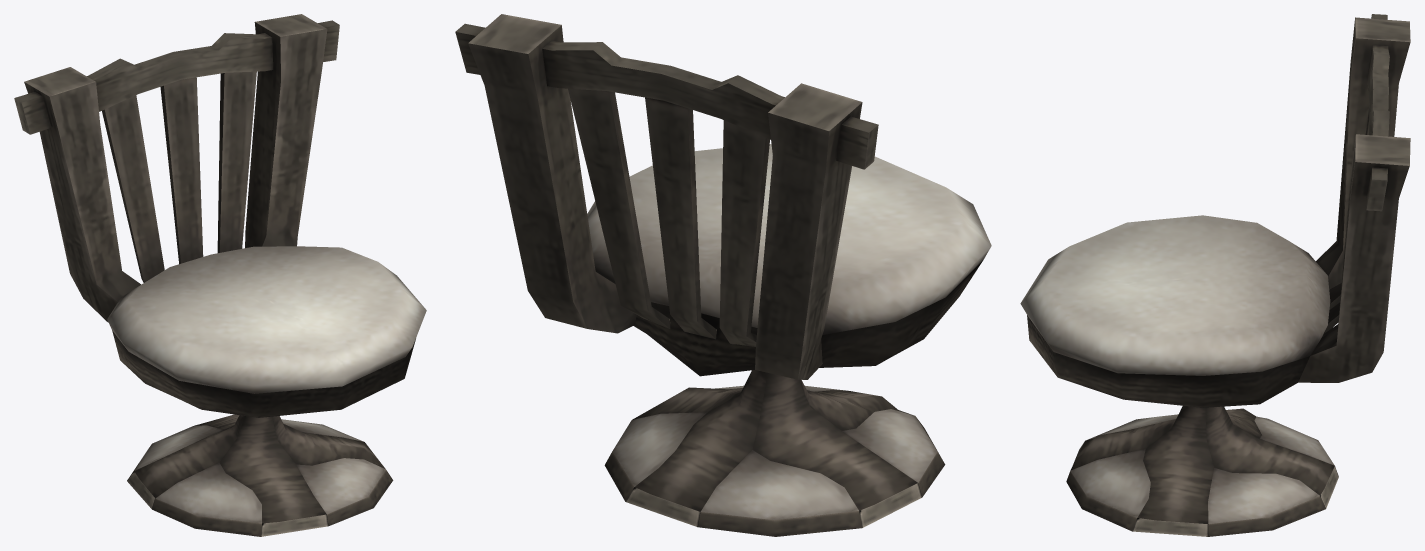
File: ColonialChair_HD.fbx
3 views of the same model, side by side, from view 1: azimuth 30°, elevation 25°; view 2: azimuth 150°, elevation 25°; view 3: azimuth 270°, elevation 25° (orthographic). The views are drawn at different scales.
Parts seen in each view (by area): view 1: ColonialChair; view 2: ColonialChair; view 3: ColonialChair.
Boxes of the visible parts, left/top/right/bottom form: ColonialChair: left=14, top=14, right=426, bottom=536; ColonialChair: left=455, top=14, right=991, bottom=536; ColonialChair: left=1020, top=14, right=1410, bottom=536.
Bounding box in the file's own units: 0.6991 × 0.7797 × 0.696.
